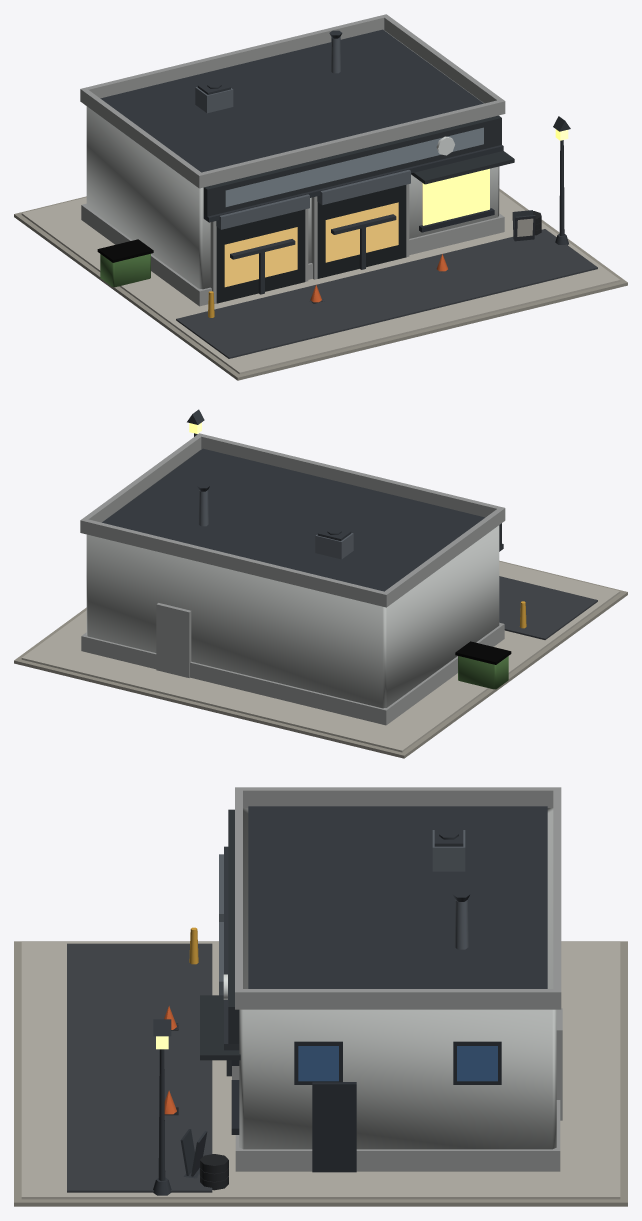
Rendered from mossline-garage.glb.
3 renders of one model, top to bottom at view 1: azimuth 30°, elevation 25°; view 2: azimuth 150°, elevation 25°; view 3: azimuth 270°, elevation 25°, orthographic. The views are drawn at different scales.
Visible parts, largest first — view 1: Merged_city-metal-dark, Merged_city-asphalt, Merged_garage-concrete-shade, Merged_city-paving, Merged_garage-concrete, Merged_garage-bay-interior, Merged_garage-fascia, Merged_garage-bay-glow, Merged_city-curb, Merged_garage-sign-plate, Merged_city-metal, Merged_city-lit-glass-surface (+3 smaller); view 2: Merged_garage-concrete, Merged_city-metal-dark, Merged_garage-concrete-shade, Merged_city-paving, Merged_city-curb, Merged_city-asphalt, Merged_city-foliage-deep, Merged_city-metal, Merged_garage-skip-lid; view 3: Merged_city-metal-dark, Merged_city-paving, Merged_garage-concrete, Merged_city-asphalt, Merged_garage-concrete-shade, Merged_city-curb, Merged_city-window-frame, Merged_garage-fascia, Merged_city-glass-surface, Merged_city-metal, Merged_garage-rubber.
Part boxes in pixels (bbox=[...]): Merged_city-metal-dark: bbox=[100, 29, 570, 294]; Merged_city-asphalt: bbox=[176, 229, 597, 358]; Merged_garage-concrete-shade: bbox=[80, 14, 505, 306]; Merged_city-paving: bbox=[21, 191, 620, 374]; Merged_garage-concrete: bbox=[86, 30, 499, 289]; Merged_garage-bay-interior: bbox=[216, 185, 406, 303]; Merged_garage-fascia: bbox=[203, 115, 514, 216]; Merged_garage-bay-glow: bbox=[224, 202, 398, 287]; Merged_city-curb: bbox=[14, 188, 627, 380]; Merged_garage-sign-plate: bbox=[225, 127, 483, 206]; Merged_city-metal: bbox=[195, 37, 410, 229]; Merged_city-lit-glass-surface: bbox=[423, 168, 489, 225]; Merged_garage-concrete: bbox=[86, 449, 499, 708]; Merged_city-metal-dark: bbox=[102, 409, 503, 591]; Merged_garage-concrete-shade: bbox=[80, 433, 505, 725]; Merged_city-paving: bbox=[21, 561, 620, 752]; Merged_city-curb: bbox=[14, 560, 627, 758]; Merged_city-asphalt: bbox=[499, 576, 597, 639]; Merged_city-foliage-deep: bbox=[458, 656, 508, 689]; Merged_city-metal: bbox=[198, 490, 353, 559]; Merged_garage-skip-lid: bbox=[455, 641, 511, 664]; Merged_city-metal-dark: bbox=[153, 806, 547, 1195]; Merged_city-paving: bbox=[21, 942, 620, 1199]; Merged_garage-concrete: bbox=[239, 808, 556, 1149]; Merged_city-asphalt: bbox=[67, 943, 212, 1192]; Merged_garage-concrete-shade: bbox=[232, 787, 562, 1171]; Merged_city-curb: bbox=[14, 941, 627, 1206]; Merged_city-window-frame: bbox=[231, 1041, 501, 1172]; Merged_garage-fascia: bbox=[200, 809, 240, 1060]; Merged_city-glass-surface: bbox=[298, 1046, 497, 1081]; Merged_city-metal: bbox=[219, 830, 468, 995]; Merged_garage-rubber: bbox=[164, 1023, 228, 1190].
Size of what is drawn, in the model's own units: 11.02 by 4.4 by 10.83.
